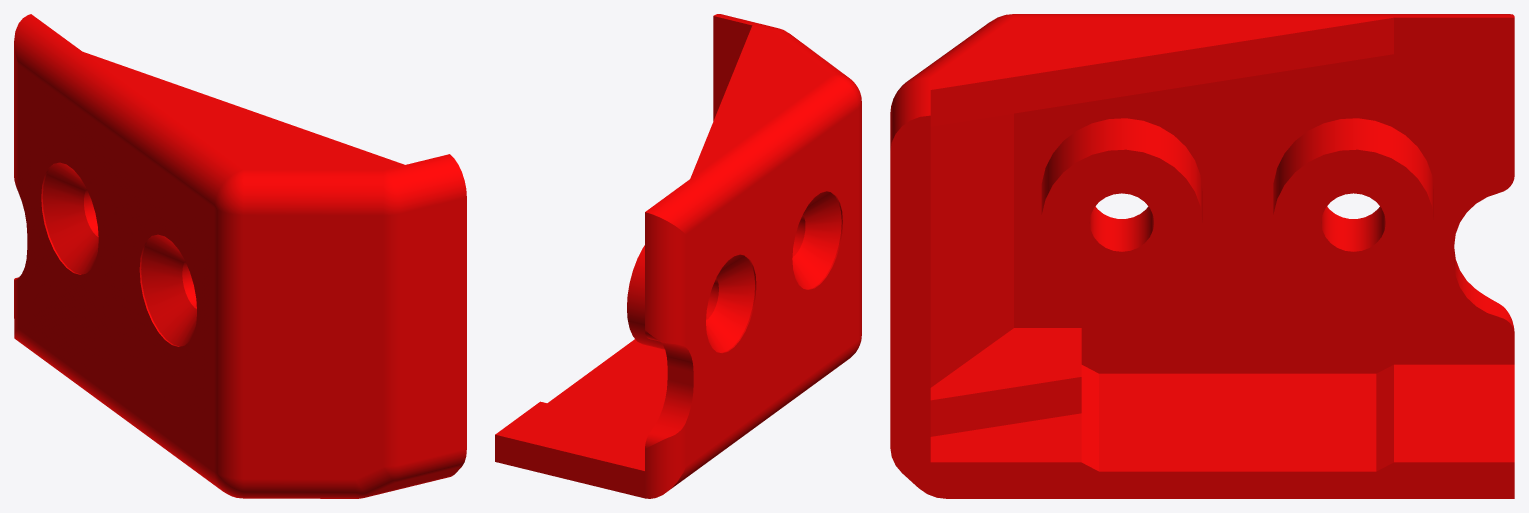
File: Gripper_Finger1.dae
3 renders of one model, left to right at view 1: azimuth 30°, elevation 25°; view 2: azimuth 150°, elevation 25°; view 3: azimuth 270°, elevation 25°, orthographic. The views are drawn at different scales.
Parts seen in each view (by area): view 1: GripperFinger1; view 2: GripperFinger1; view 3: GripperFinger1.
Boxes of the visible parts, left/top/right/bottom form: GripperFinger1: left=14, top=14, right=466, bottom=498; GripperFinger1: left=495, top=14, right=861, bottom=498; GripperFinger1: left=890, top=14, right=1514, bottom=498.
Bounding box in the file's own units: 0.0135 × 0.021 × 0.031.
